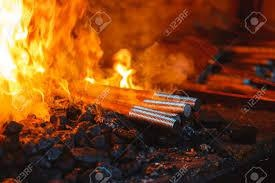fire: (1, 0, 134, 142)
